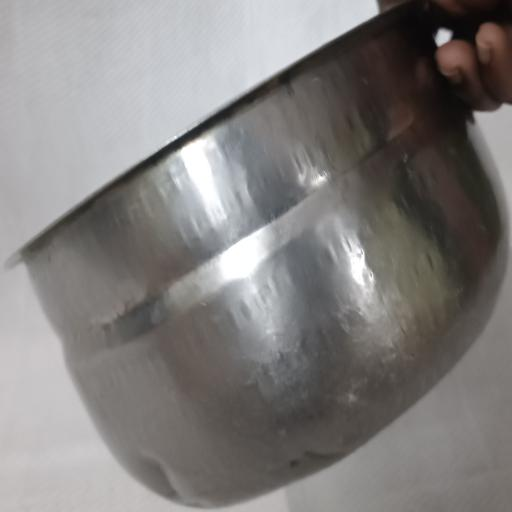vessel: (11, 5, 508, 507)
